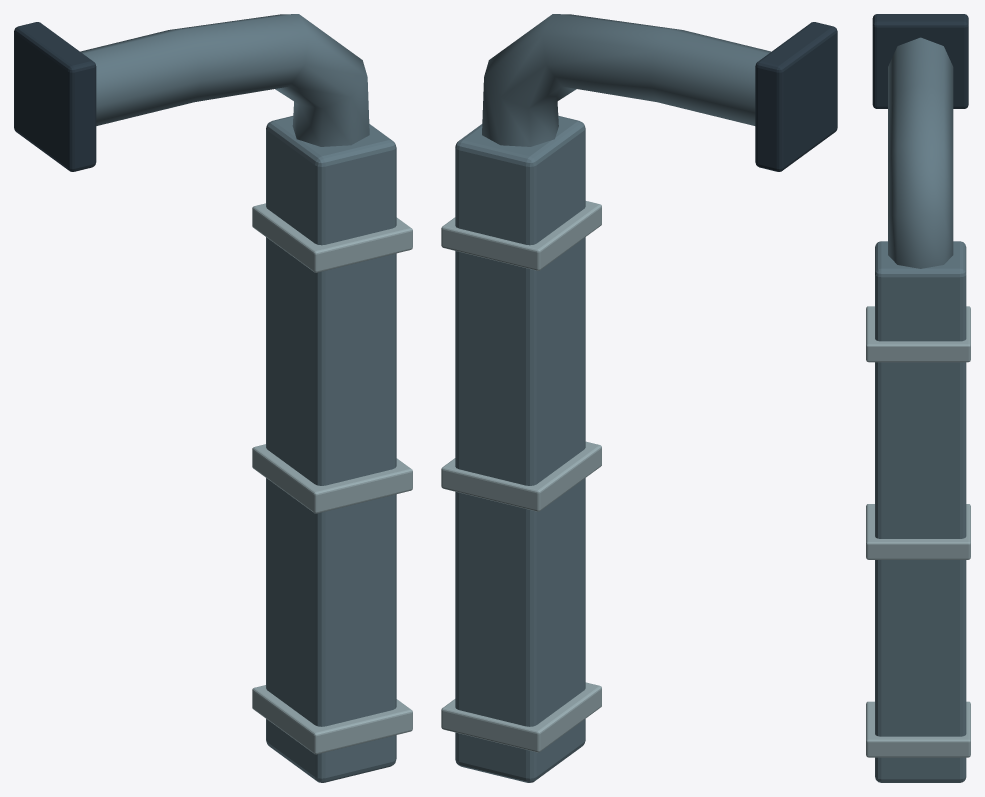
The model's file is SM_Pipe.fbx.
3 renders of one model, left to right at view 1: azimuth 30°, elevation 25°; view 2: azimuth 150°, elevation 25°; view 3: azimuth 270°, elevation 25°, orthographic. The views are drawn at different scales.
Visible parts, largest first — view 1: SM_Pipe; view 2: SM_Pipe; view 3: SM_Pipe.
Boxes of the visible parts, bbox=[...] form: SM_Pipe: bbox=[14, 14, 412, 782]; SM_Pipe: bbox=[441, 14, 837, 782]; SM_Pipe: bbox=[866, 14, 970, 782].
Size of the model in its own units: 148 by 48 by 324.
